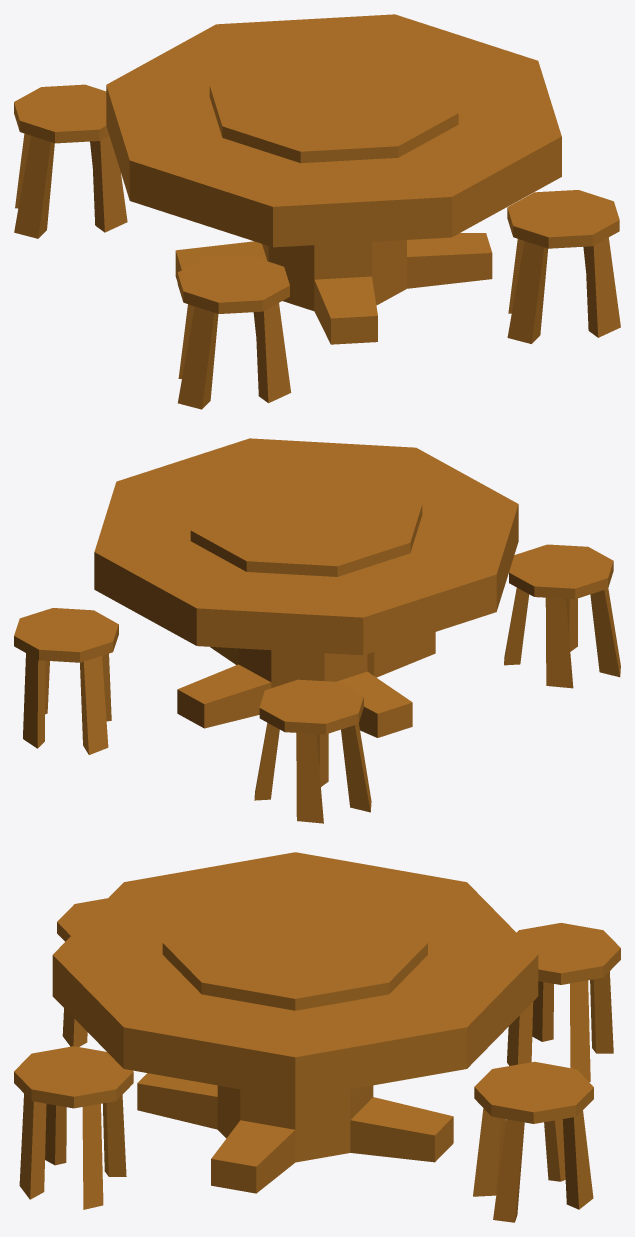
Rendered from table-and-chair-fantasy-by-shantoan-TqnrgdHWbe.glb.
3 renders of one model, top to bottom at view 1: azimuth 30°, elevation 25°; view 2: azimuth 150°, elevation 25°; view 3: azimuth 270°, elevation 25°, orthographic. The views are drawn at different scales.
Parts seen in each view (by area): view 1: Cylinder_19, Cylinder_24, Cylinder_22, Cylinder_20; view 2: Cylinder_19, Cylinder_20, Cylinder_22, Cylinder_21; view 3: Cylinder_19, Cylinder_21, Cylinder_24, Cylinder_20, Cylinder_22.
Part boxes in pixels (x1,y1,x2,y2): Cylinder_19: (106,14,561,344); Cylinder_24: (507,190,620,343); Cylinder_22: (177,255,291,409); Cylinder_20: (14,84,127,238); Cylinder_19: (94,438,518,737); Cylinder_20: (254,679,371,823); Cylinder_22: (504,544,620,688); Cylinder_21: (14,608,118,754); Cylinder_19: (52,852,538,1193); Cylinder_21: (473,1061,593,1222); Cylinder_24: (14,1046,133,1209); Cylinder_20: (507,923,620,1082); Cylinder_22: (57,898,107,1046).
Bounding box in the file's own units: 4.46 × 1.72 × 5.06.
